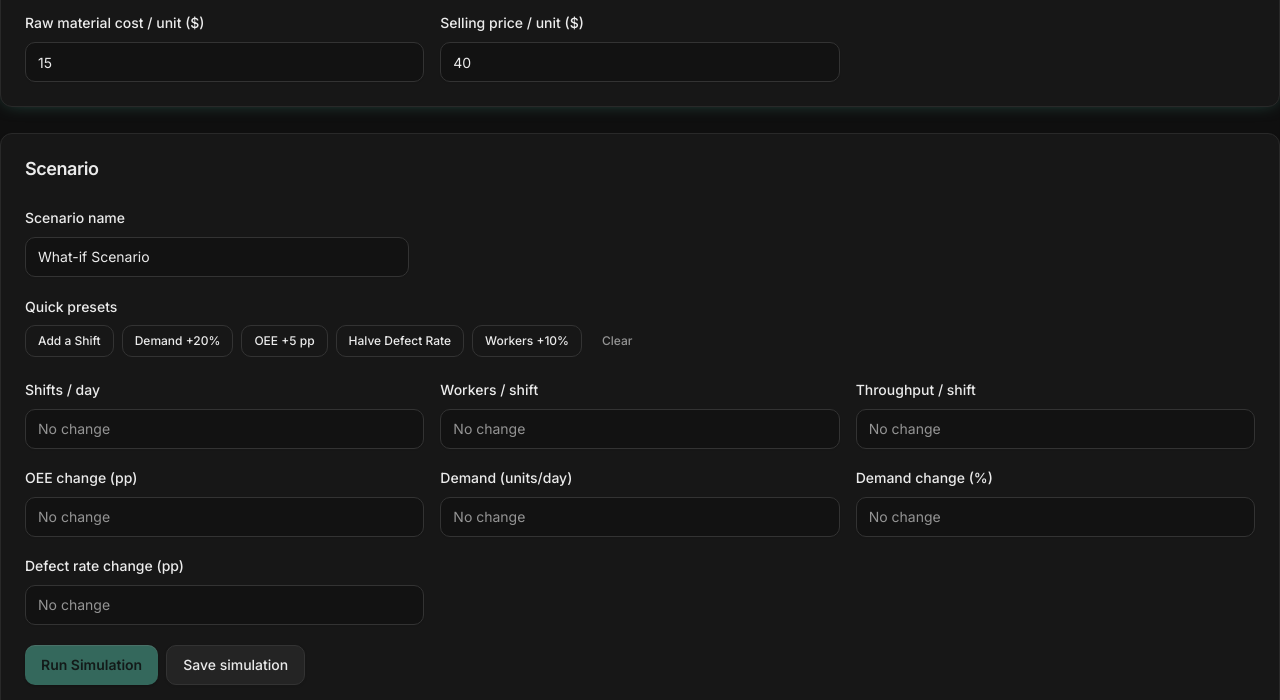
Test: Simulation › saves a simulation, then runs it to history and with a confidence range
(page scrolled)
Click the button "Halve Defect Rate". click: [400, 341]
box: [336,325,464,357]
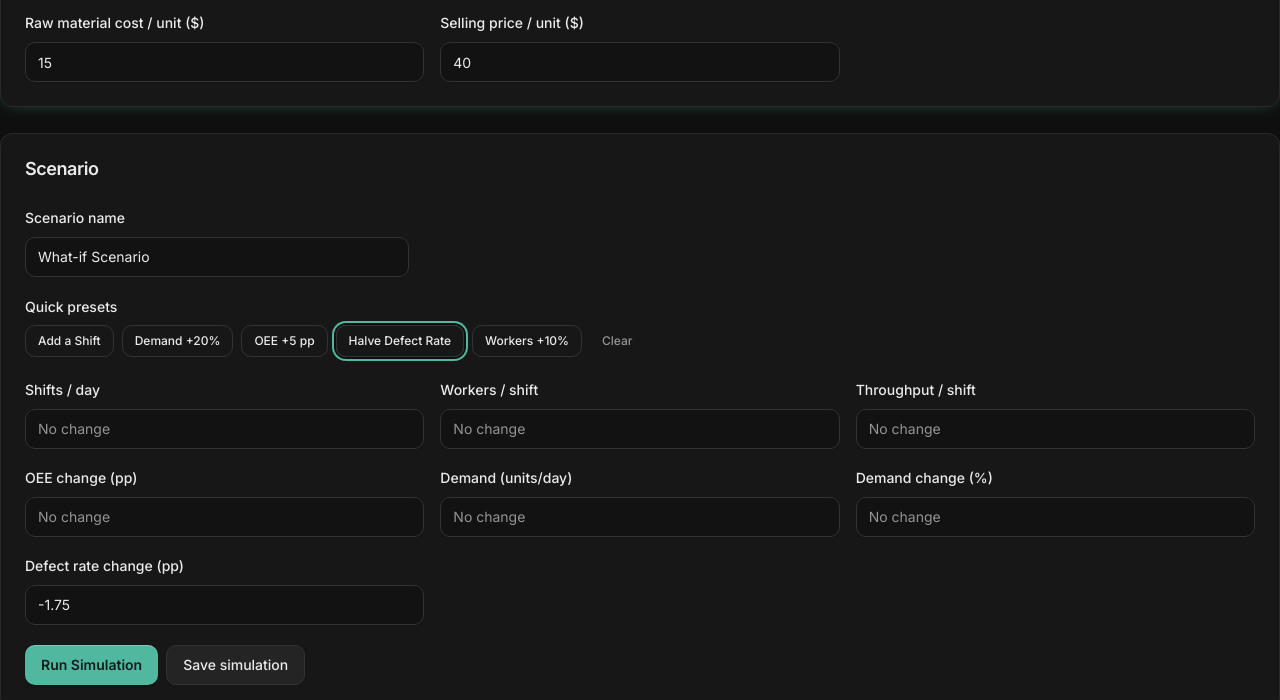
Click the button "Save simulation". click: [236, 665]
box: [166,645,305,685]
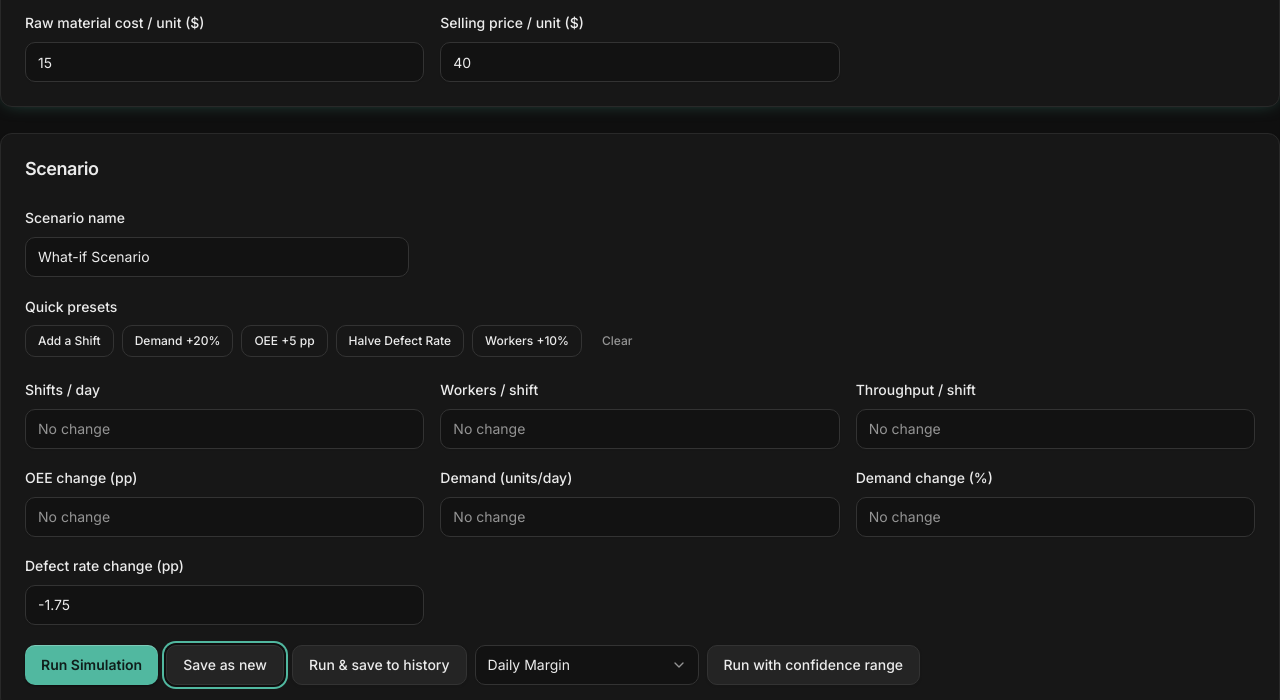
Result: the button "Save as new" is shown at [166,645,284,685]
Click the button "Run & save to history". click: [379, 665]
box: [292,645,466,685]
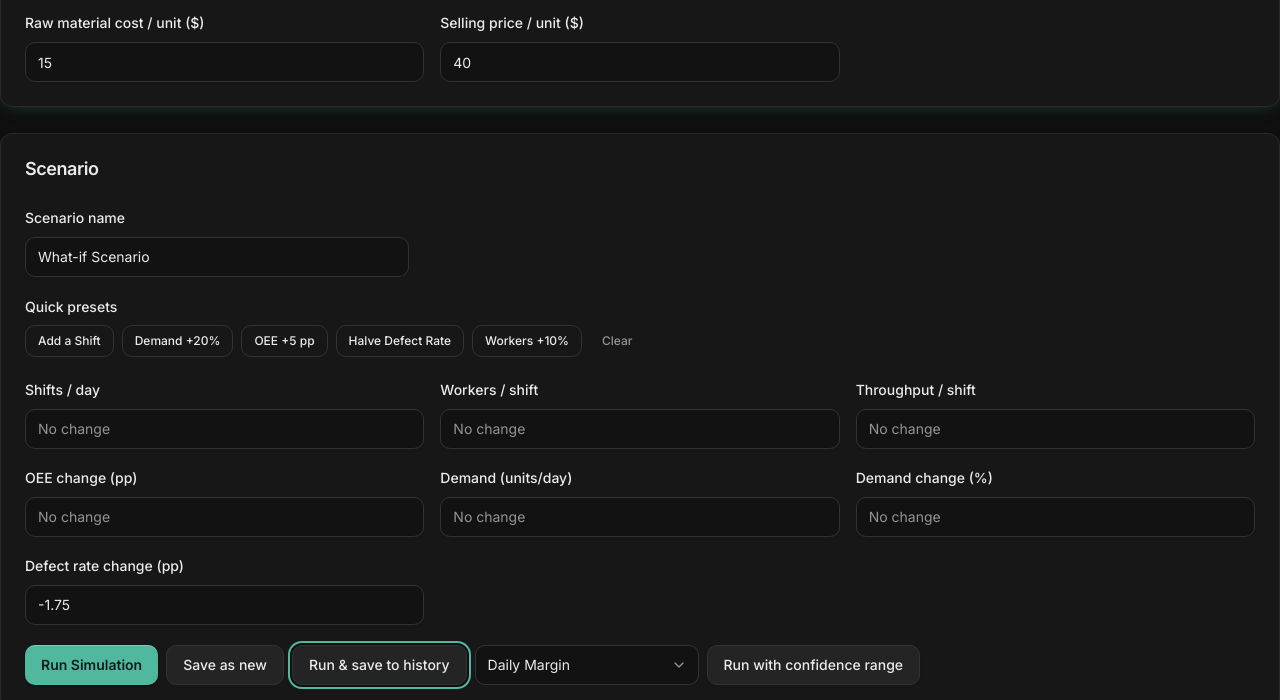
Select "Good Units/Day" in the dropdown showing "Daily Margin". click: [586, 665]
box: [474,645,698,685]
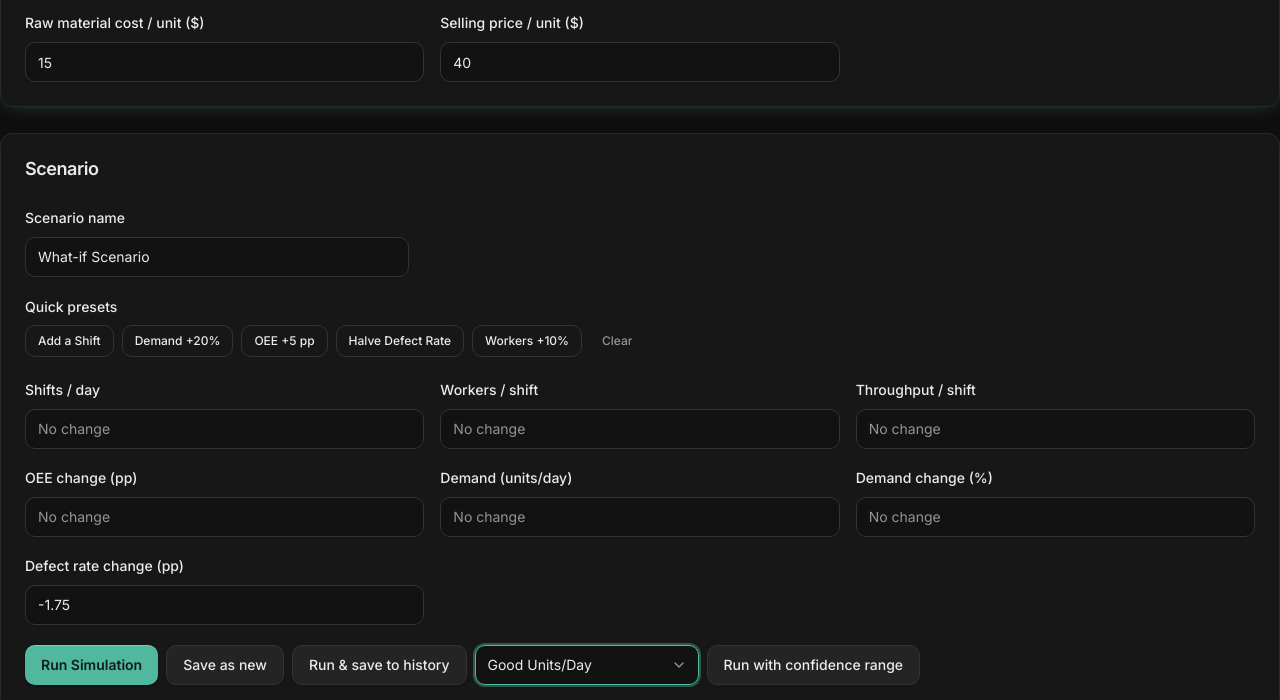
Click the button "Run with confidence range". click: [813, 665]
box: [706,645,920,685]
(page scrolled)
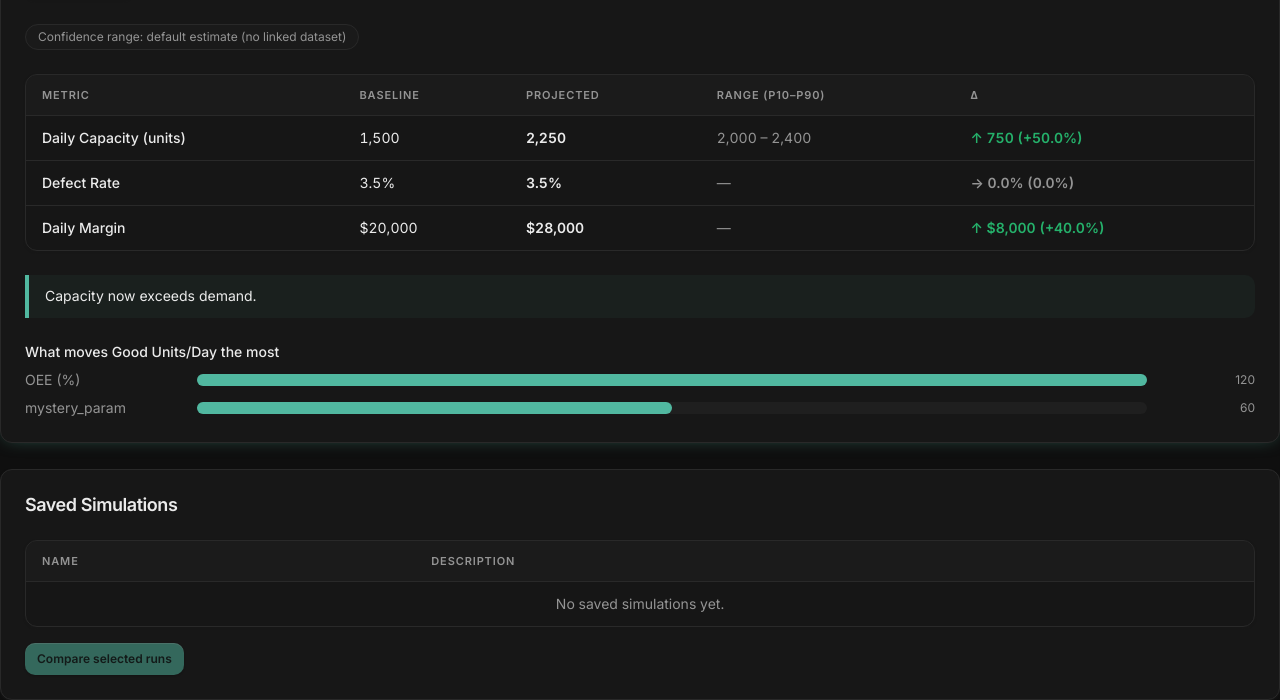
Result: the text "Confidence range: default estimate (no linked dataset)" is shown at [25,24,359,50]
Result: the column heading "Range (P10–P90)" is shown at [701,75,954,115]
Result: the text "2,000 – 2,400" is shown at [701,115,954,160]
